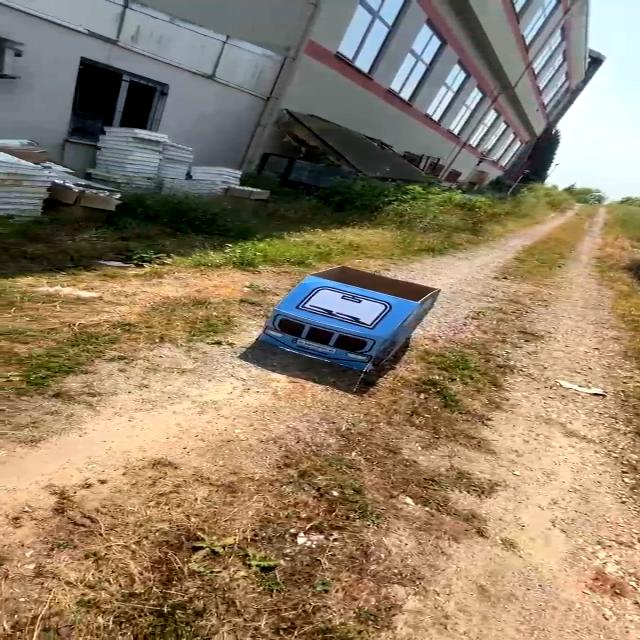blue_car: (225, 258, 448, 393)
